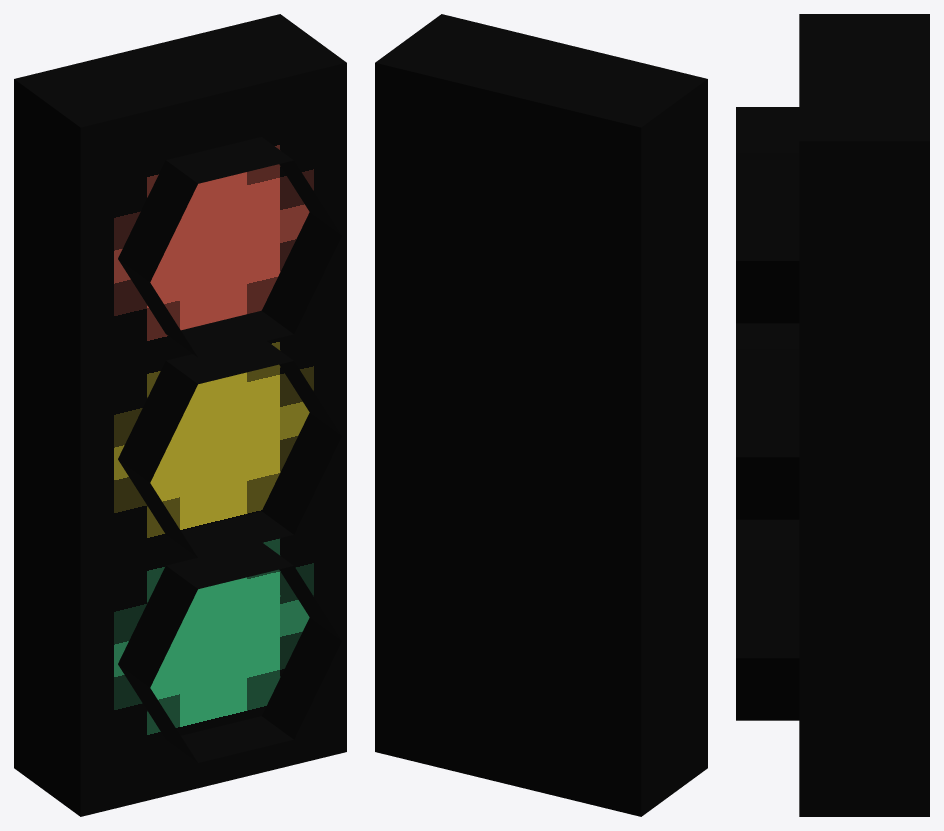
Rendered from StoplightBlack.fbx.
3 renders of one model, left to right at view 1: azimuth 30°, elevation 25°; view 2: azimuth 150°, elevation 25°; view 3: azimuth 270°, elevation 25°, orthographic. The views are drawn at different scales.
Parts seen in each view (by area): view 1: Cube; view 2: Cube; view 3: Cube.
Part boxes in pixels (x1,y1,x2,y2): Cube: (14, 14, 346, 816); Cube: (375, 14, 707, 816); Cube: (736, 14, 929, 816).
Bounding box in the file's own units: 12.13 × 30 × 7.8.
1 material, 1 textured.
